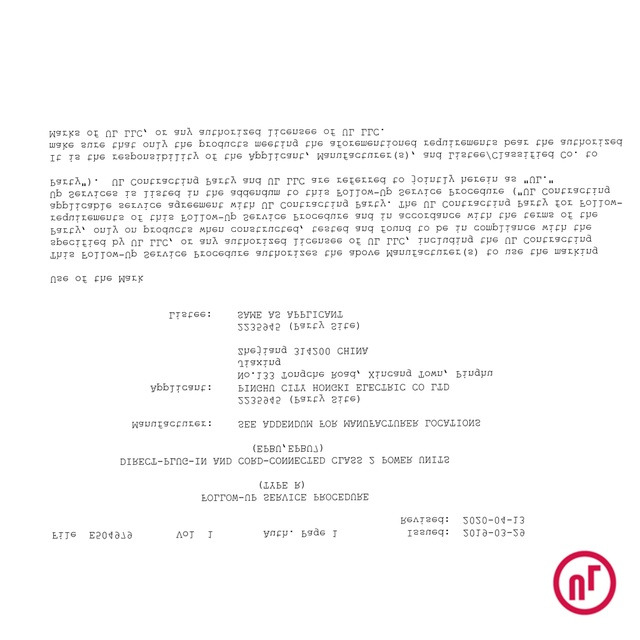ul: (552, 547, 616, 617)
